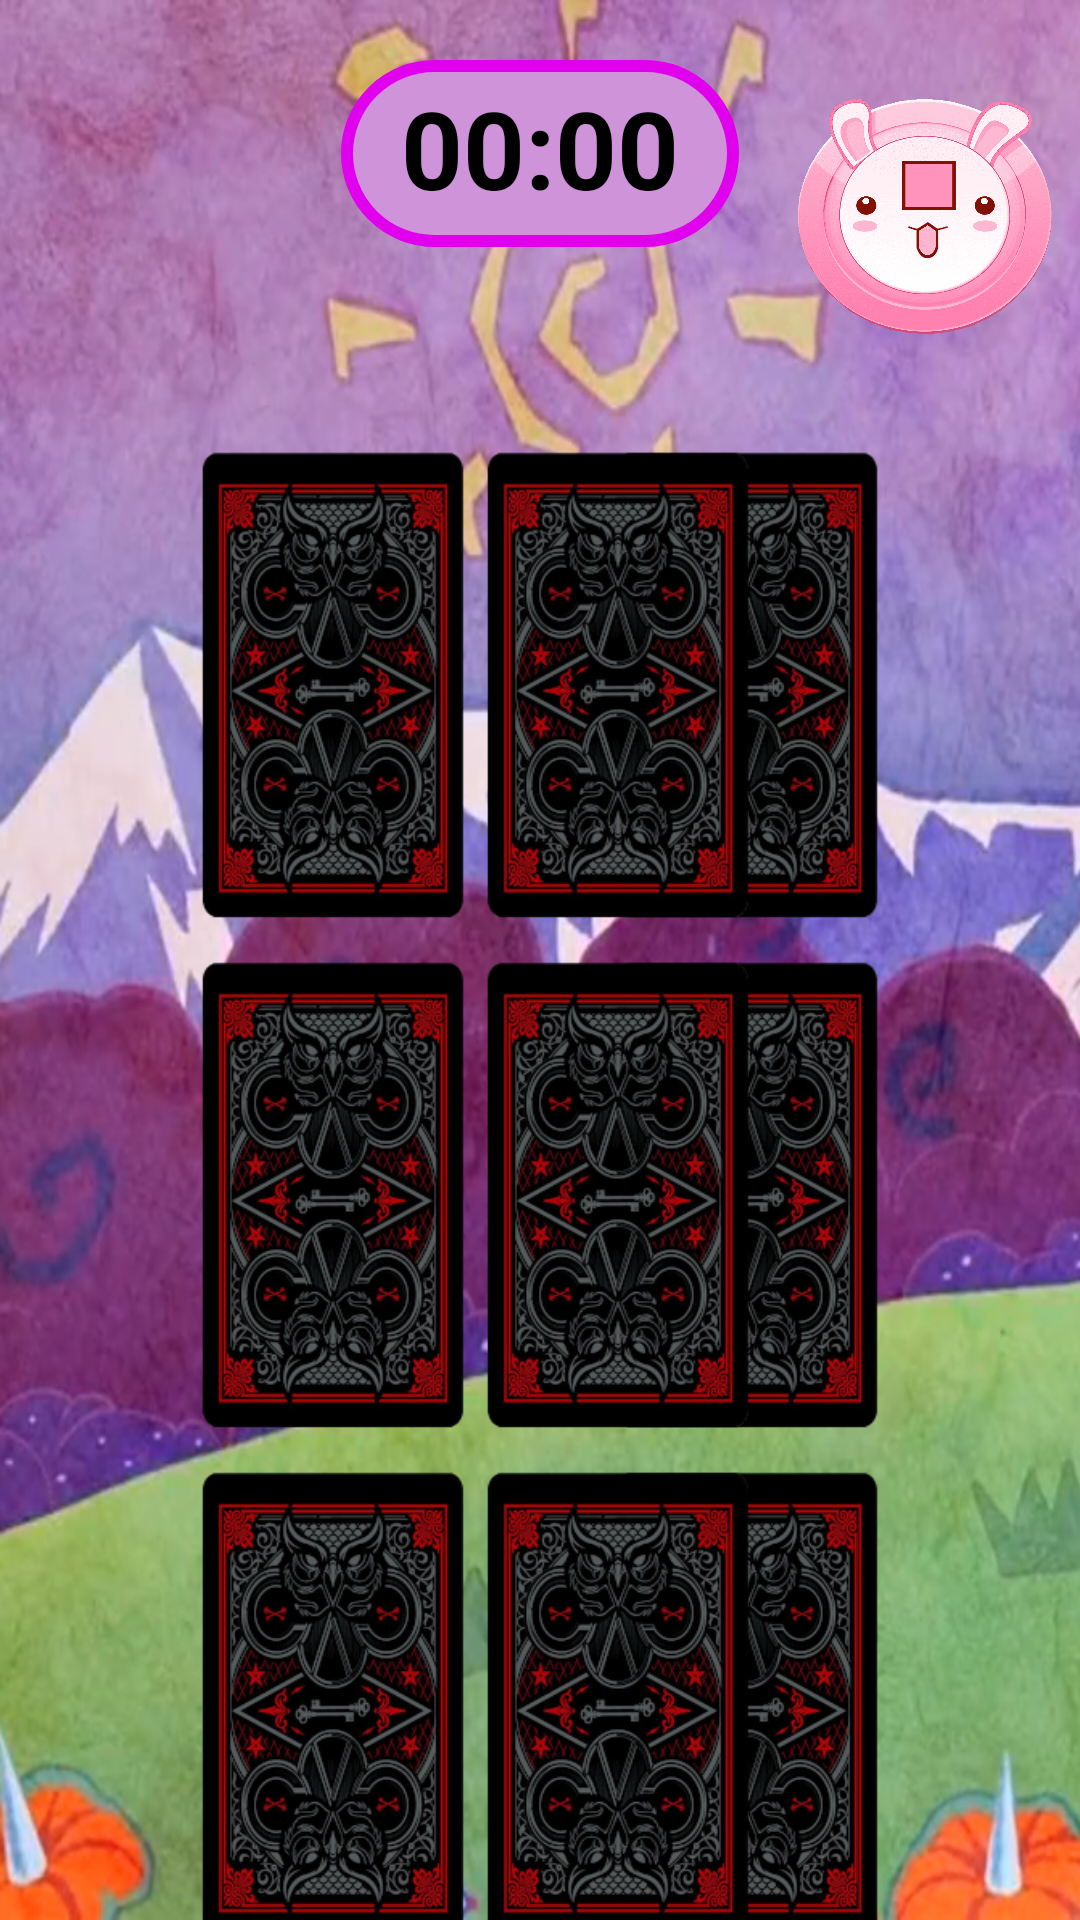

Where to tap for icons on this 1080px×1920px app screen, as (x,y):
Stops the chronometer: (922,229)
